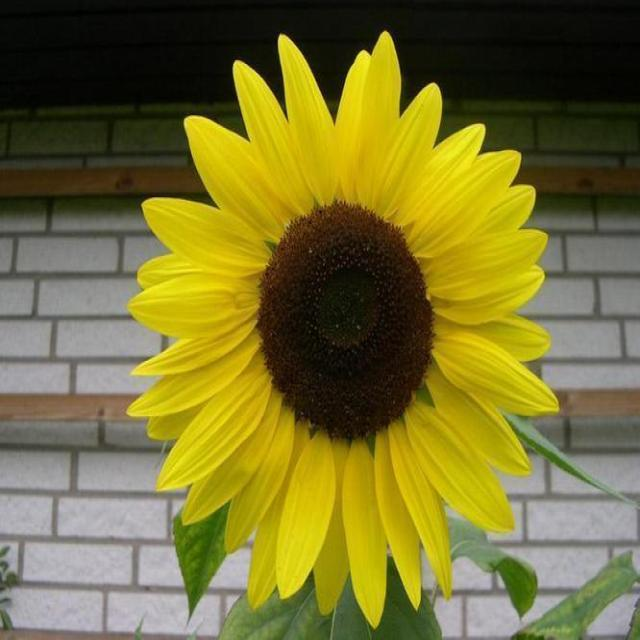sunflower: (116, 15, 561, 616)
